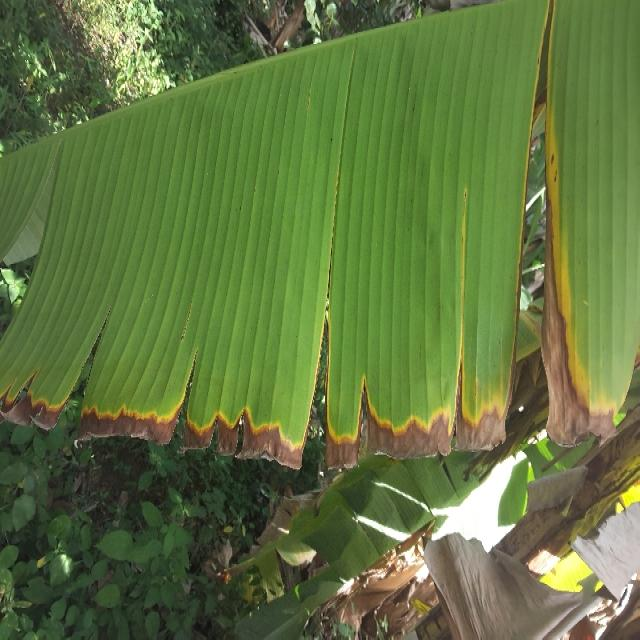Bract_mosaic_virus: (413, 527, 588, 640), (573, 502, 640, 597)
Cordana: (3, 337, 621, 495), (516, 5, 600, 374)
